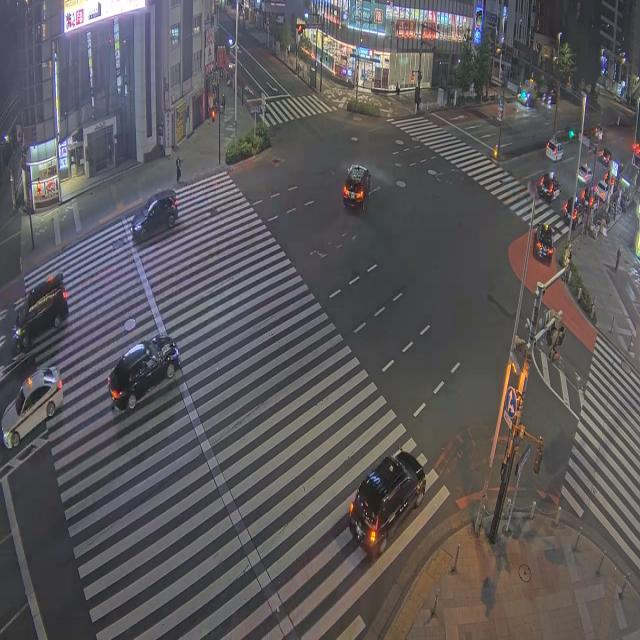car: (349, 451, 425, 559), (108, 336, 178, 410), (1, 367, 62, 448), (13, 273, 67, 351), (130, 190, 177, 241), (343, 165, 369, 209), (533, 224, 553, 262), (538, 173, 560, 200), (563, 197, 583, 225), (581, 185, 598, 212), (545, 139, 562, 161), (594, 180, 608, 202), (577, 165, 592, 183), (598, 148, 610, 165), (590, 125, 602, 141)
